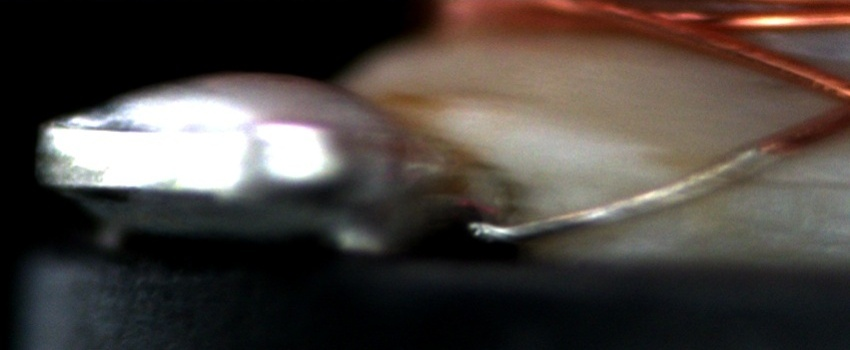DL: (750, 144, 849, 207)
